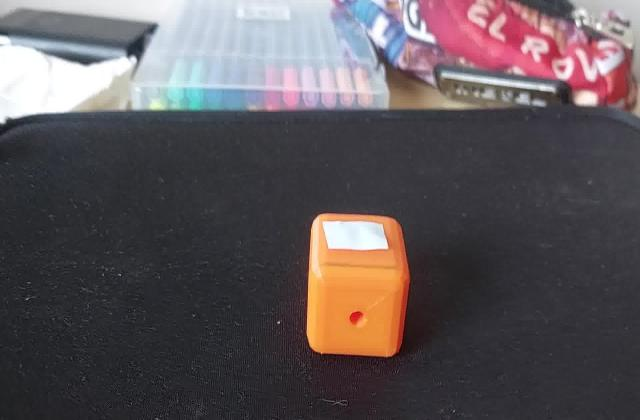cube: (304, 211, 413, 361)
